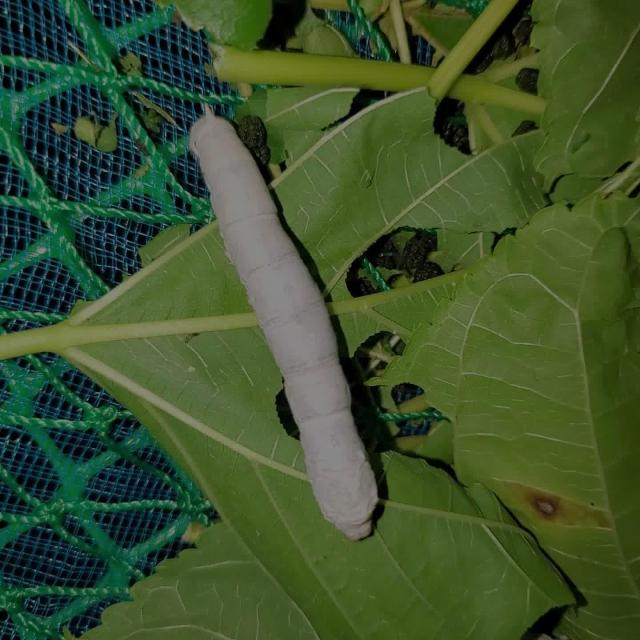Healthy: (175, 100, 394, 543)
